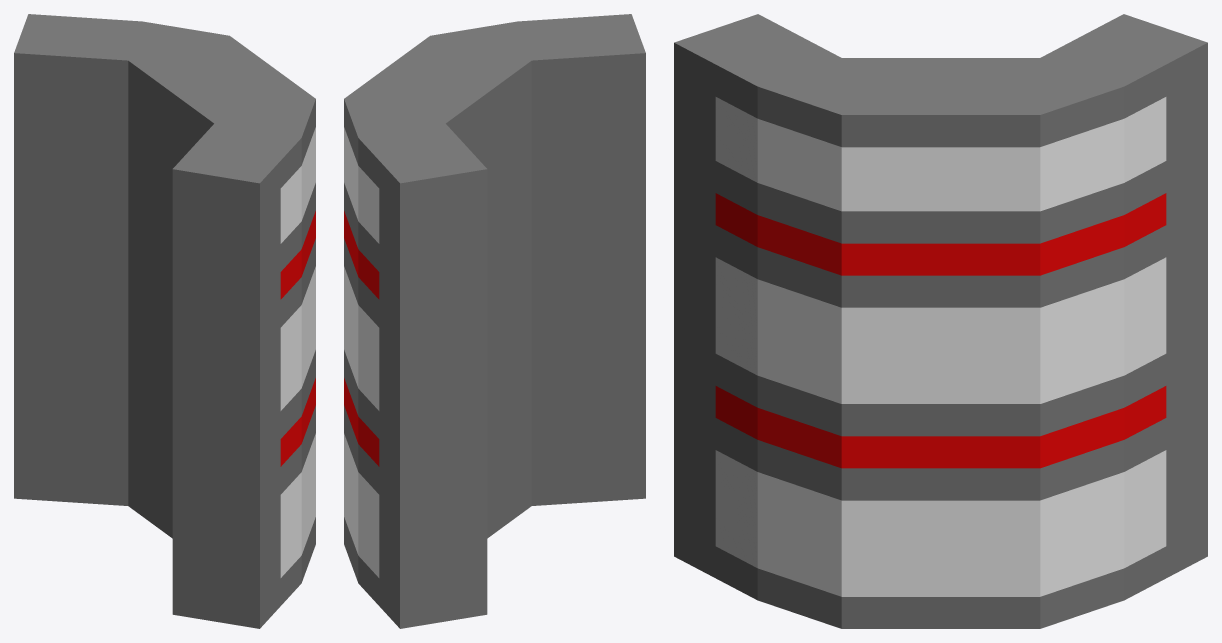
File: kneePad.fbx
The picture shows the model from 3 angles, left to right: view 1: azimuth 30°, elevation 25°; view 2: azimuth 150°, elevation 25°; view 3: azimuth 270°, elevation 25°; orthographic projection. The views are drawn at different scales.
Parts seen in each view (by area): view 1: Cube; view 2: Cube; view 3: Cube.
Boxes of the visible parts, left/top/right/bottom form: Cube: left=14, top=14, right=315, bottom=628; Cube: left=344, top=14, right=645, bottom=628; Cube: left=674, top=14, right=1207, bottom=628.
Bounding box in the file's own units: 74.47 × 177 × 166.
